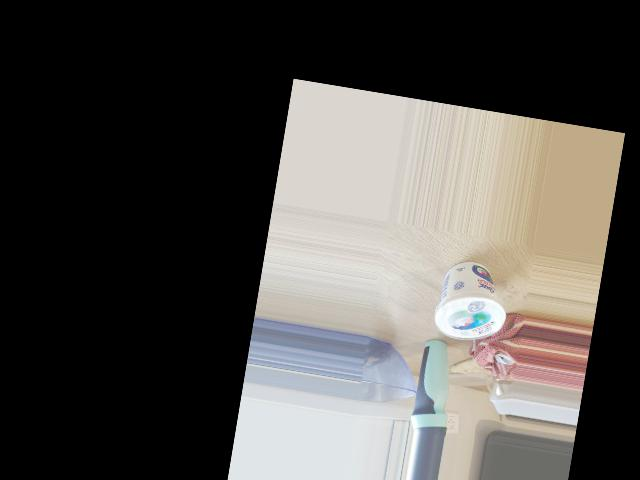cotage: (426, 253, 503, 349)
